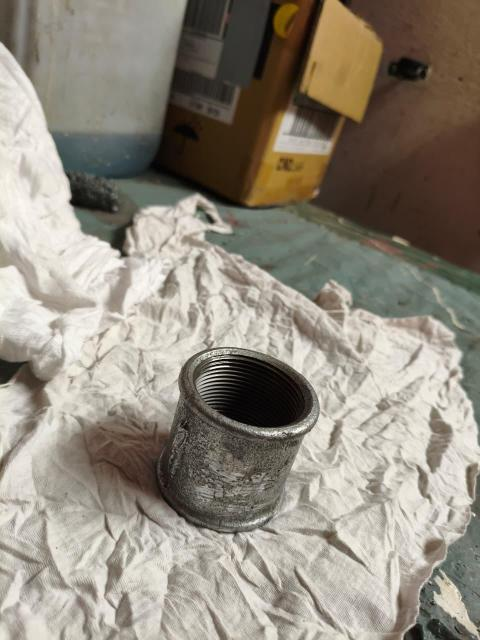Metal: (160, 340, 322, 532)
